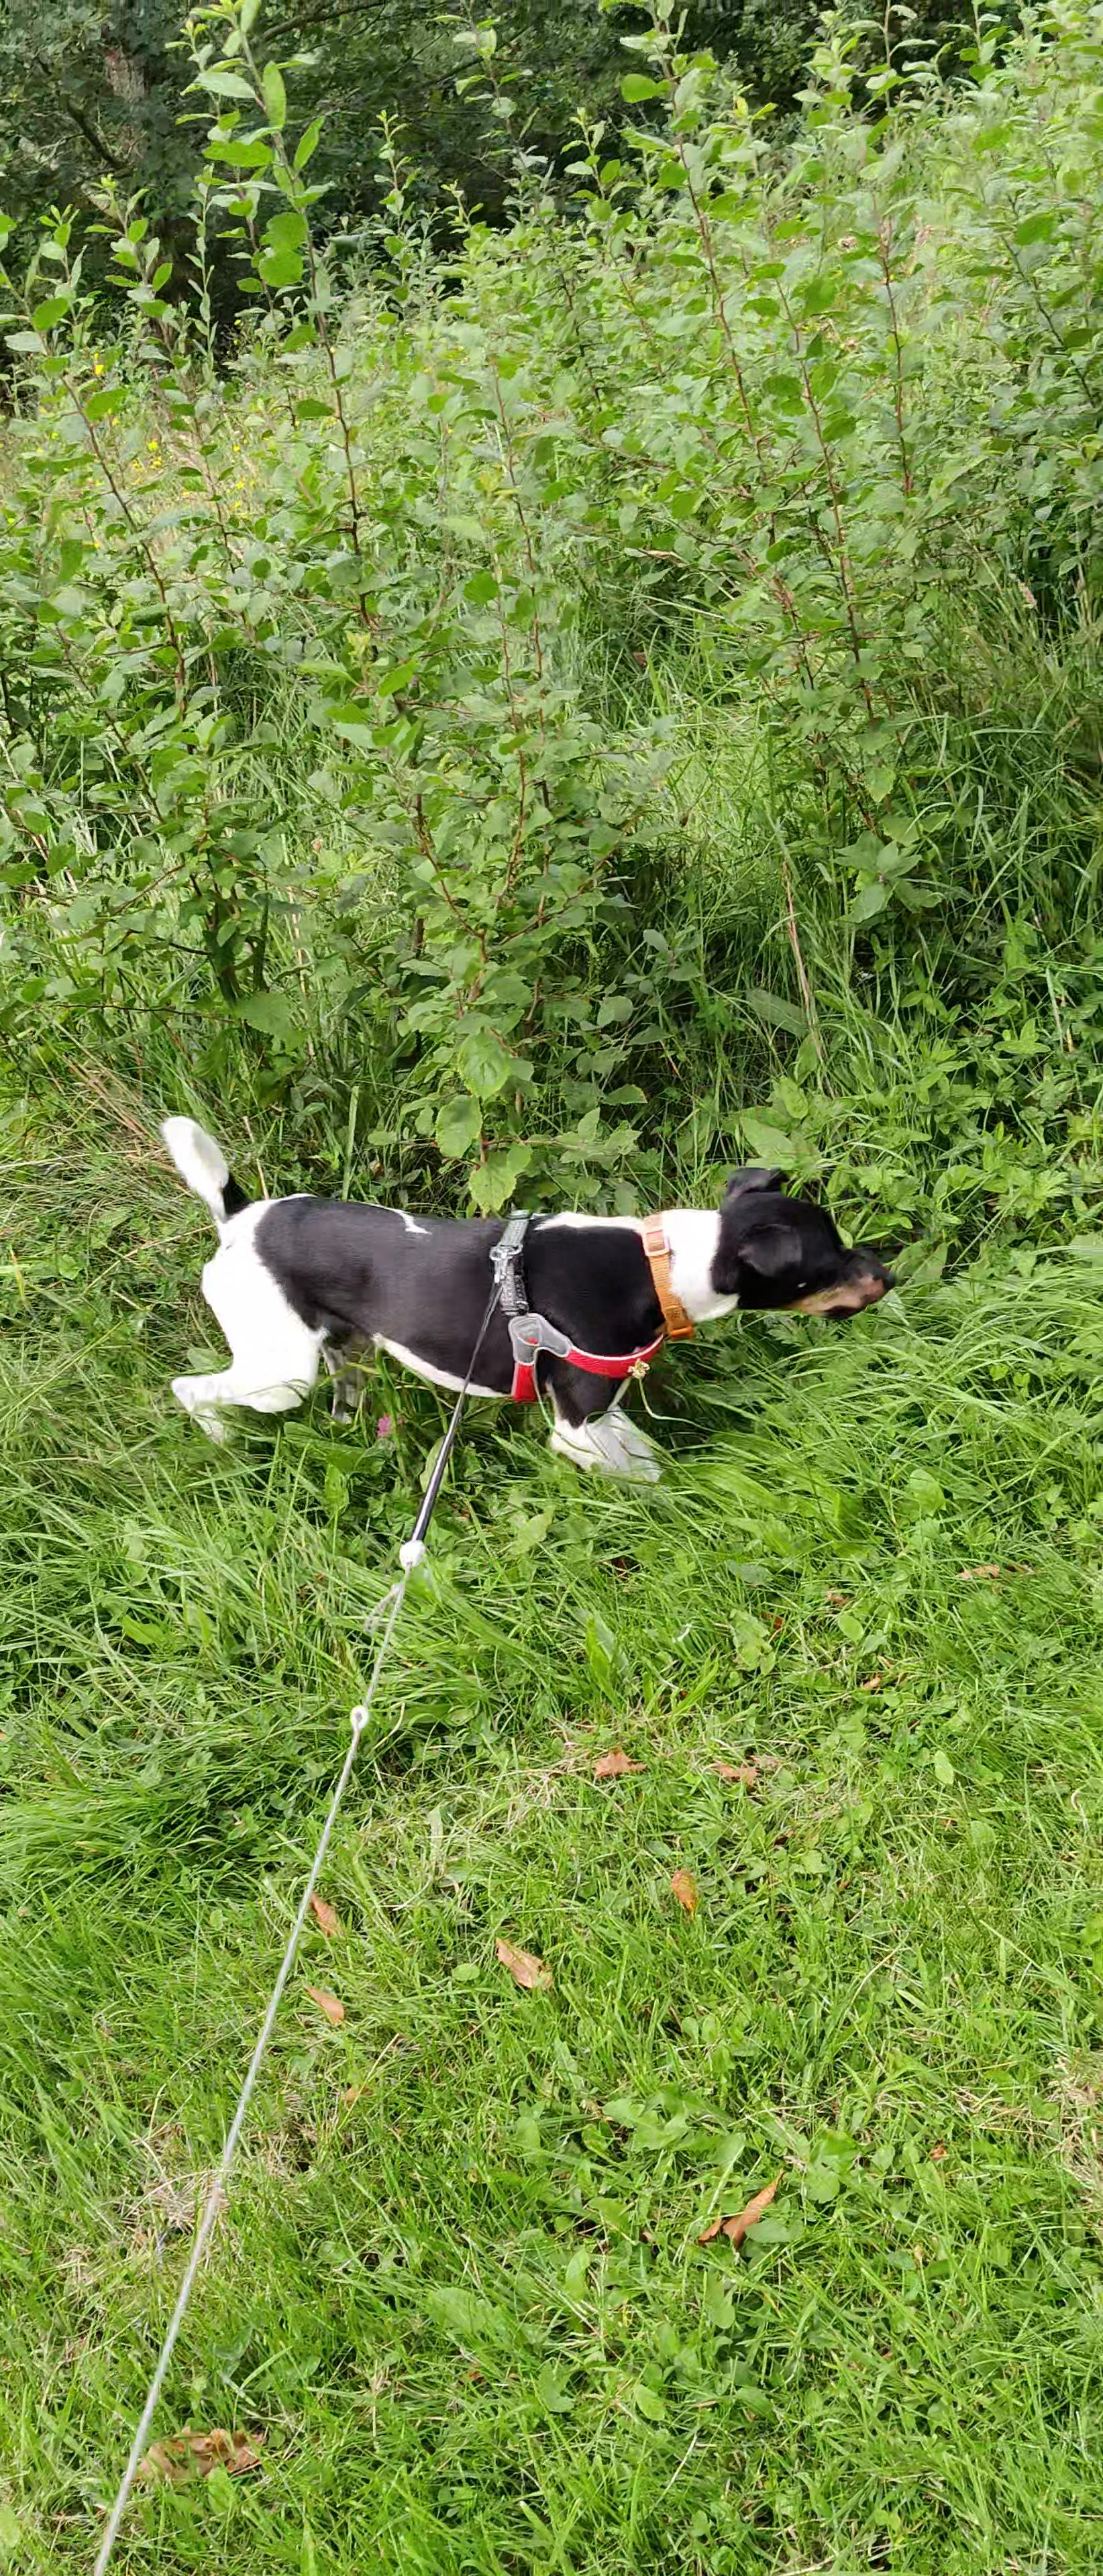Dog: (133, 1081, 912, 1488)
